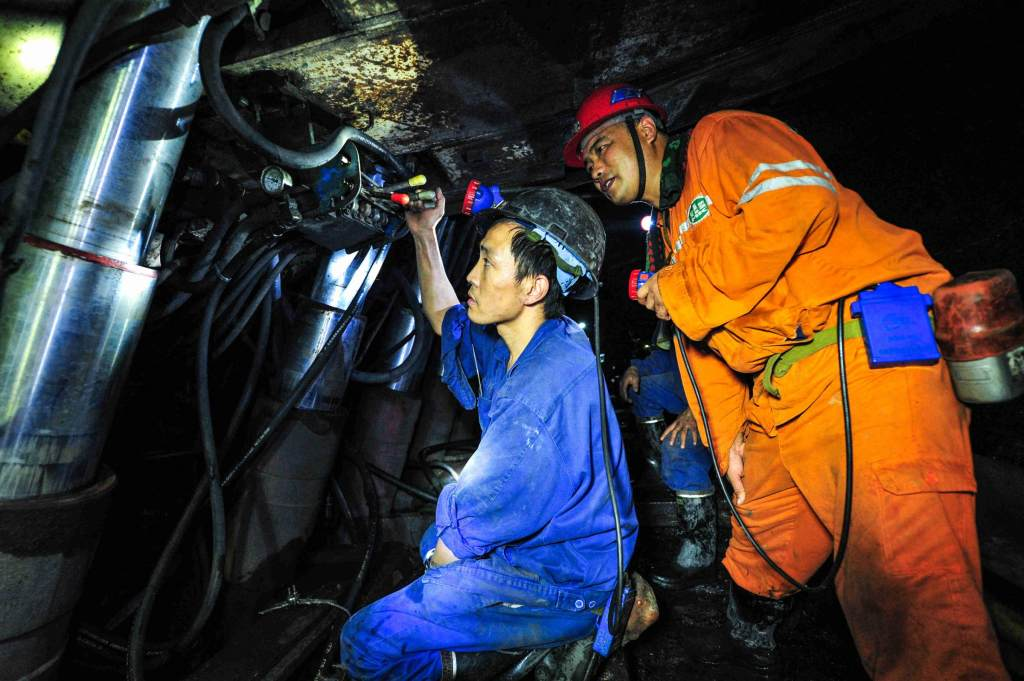helmet: (454, 168, 627, 334), (559, 85, 692, 211)
